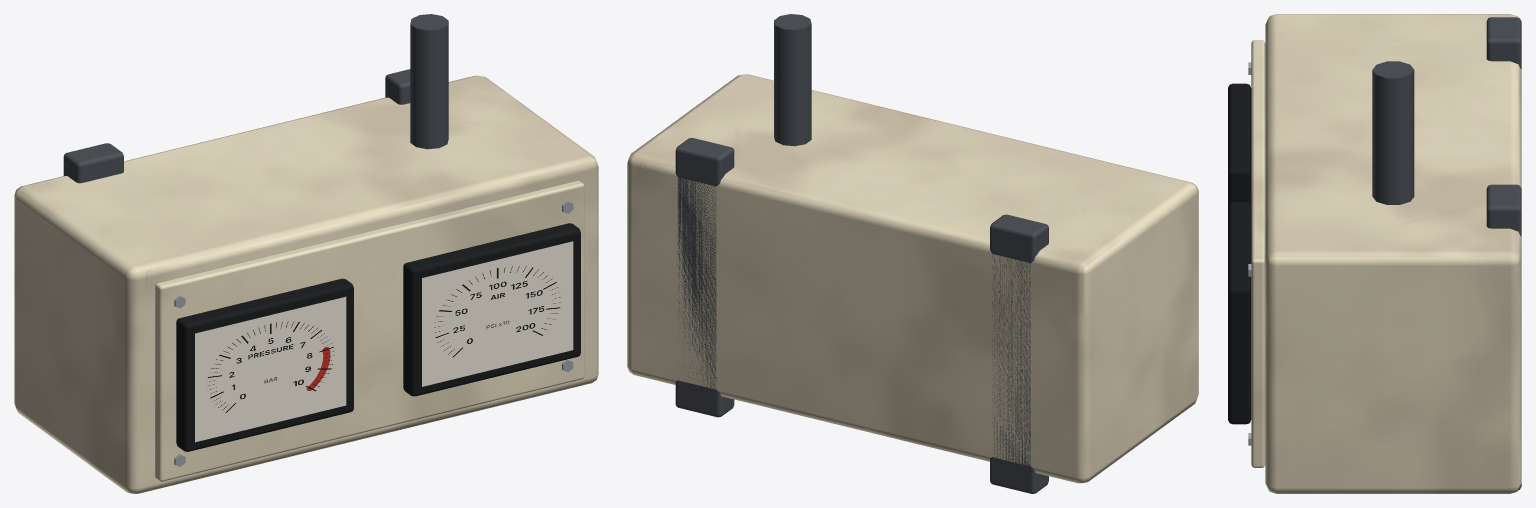
File: WallBox_50_1.glb
3 views of the same model, side by side, from view 1: azimuth 30°, elevation 25°; view 2: azimuth 150°, elevation 25°; view 3: azimuth 270°, elevation 25° (orthographic). The views are drawn at different scales.
Visible parts, largest first — view 1: WallBox_50_1_Body; view 2: WallBox_50_1_Body; view 3: WallBox_50_1_Body.
Part boxes in pixels (x1,y1,x2,y2): WallBox_50_1_Body: (14, 14, 598, 493); WallBox_50_1_Body: (627, 14, 1198, 493); WallBox_50_1_Body: (1228, 14, 1521, 493).
Bounding box in the file's own units: 0.5 × 0.37 × 0.2525.
6 materials, 3 textured.
